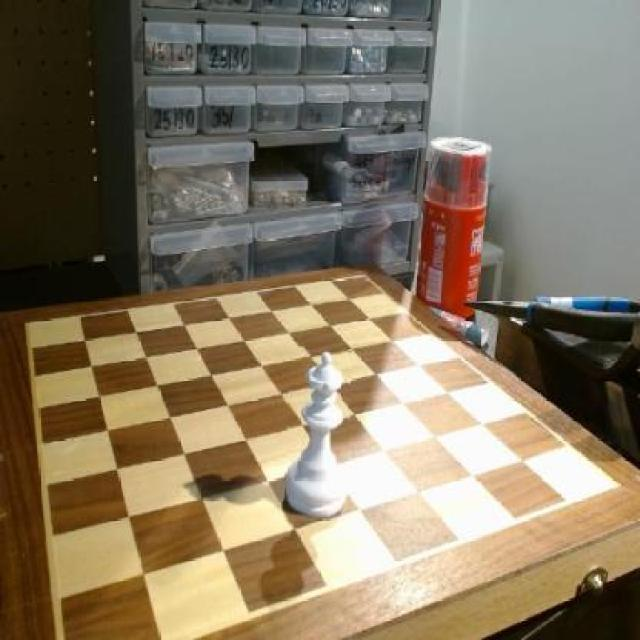white-pawn: (286, 347, 352, 526)
